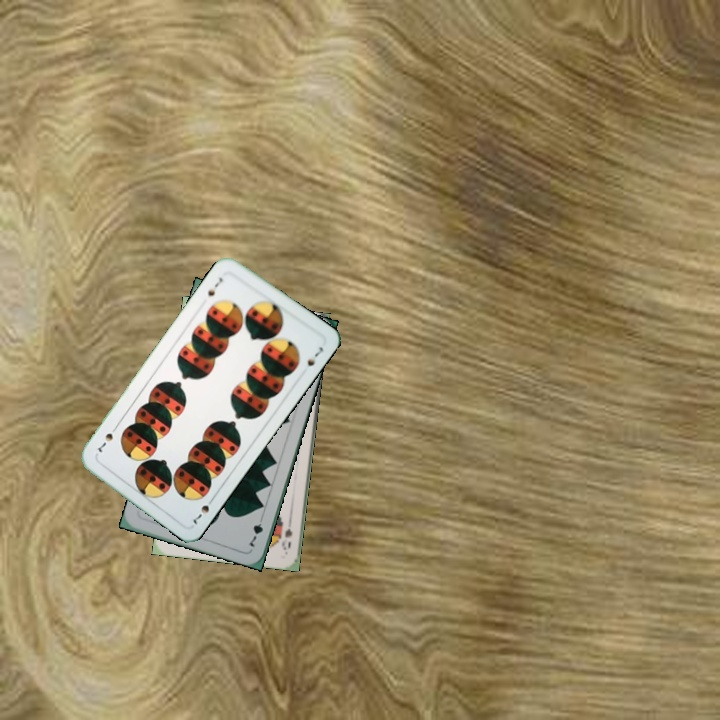G7: (245, 511, 266, 550)
S7: (189, 492, 217, 527), (203, 273, 226, 299)
SO: (278, 524, 294, 552)
